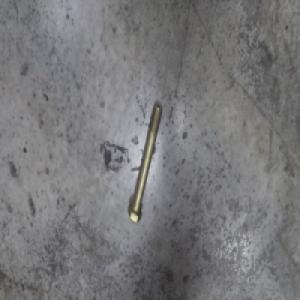Bolt: (127, 105, 164, 221)
